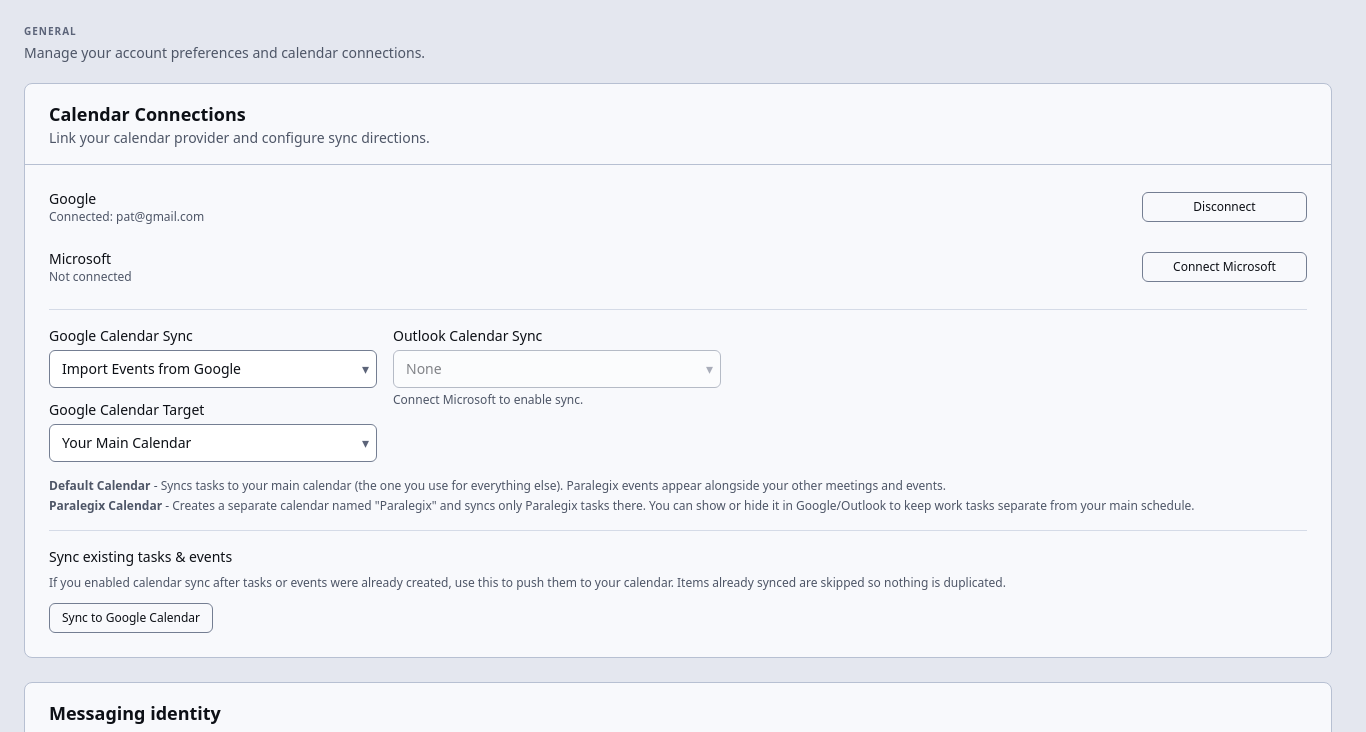
it: disconnecting Google › refreshes the shared calendar caches and turns the Google sync directions off
The image size is (1366, 732).
Expected: the text "Connected: pat@gmail.com" is shown, [49,209,204,225]
Expected: the text "Sync existing tasks & events" is shown, [49,547,232,566]
Click the button "Disconnect" at (1224, 207), box [1142,192,1307,222]
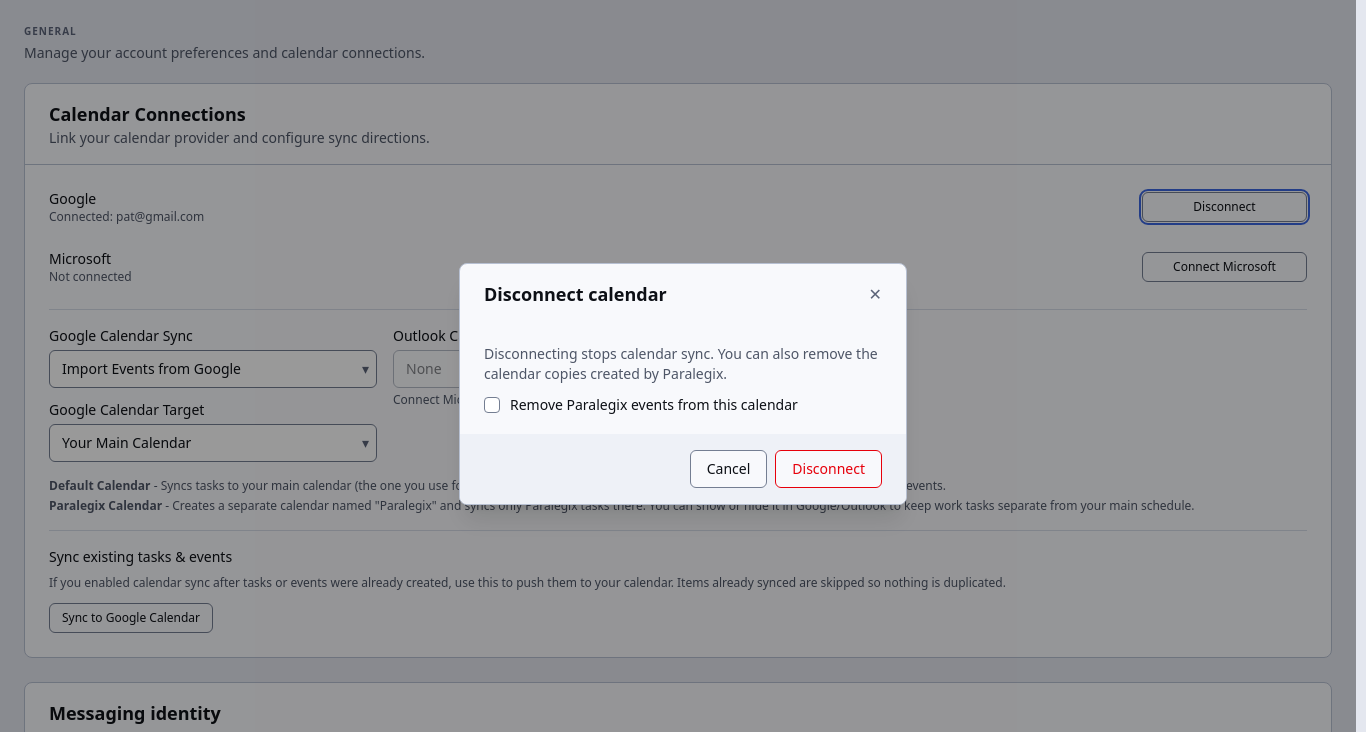
Click the button "Disconnect" at (829, 469), box [775,450,882,488]
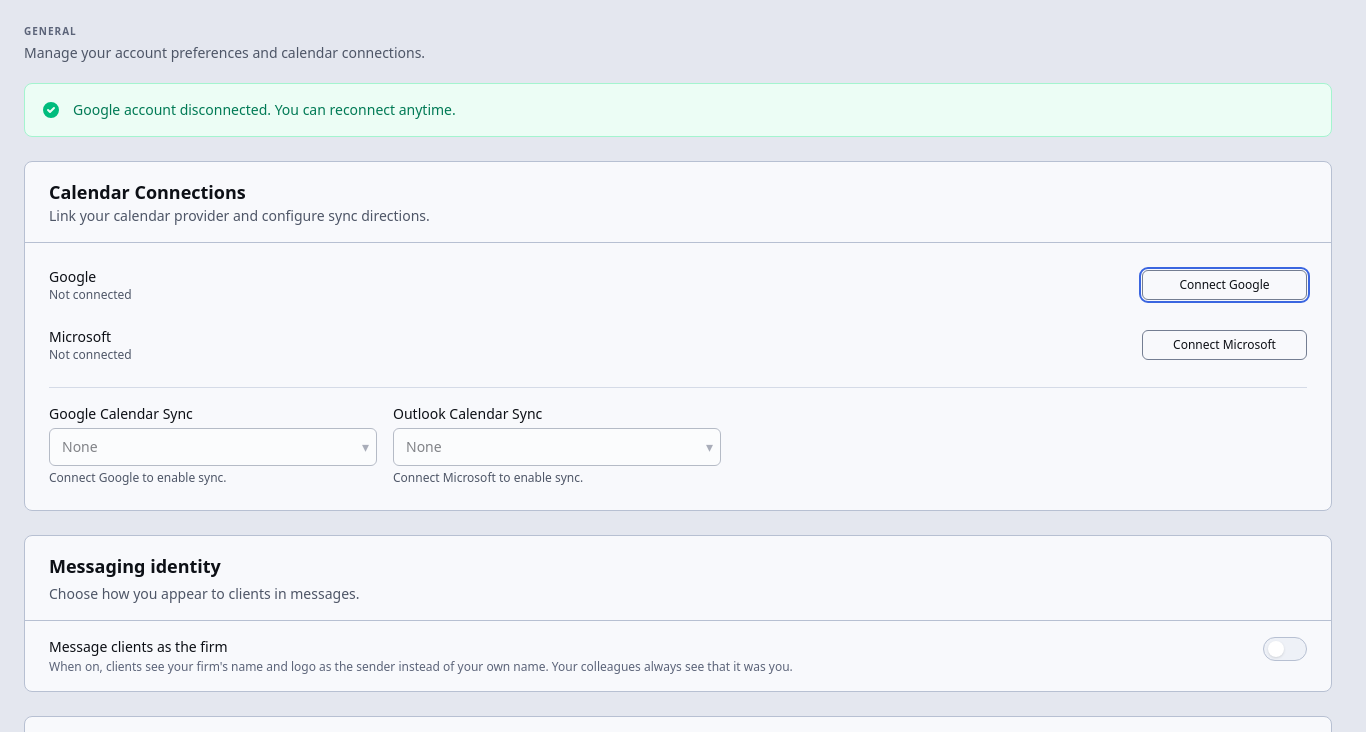
Result: the text "Google account disconnected. You can reconnect anytime." is shown at [73,100,456,119]
Result: the text "Sync existing tasks & events" is gone
